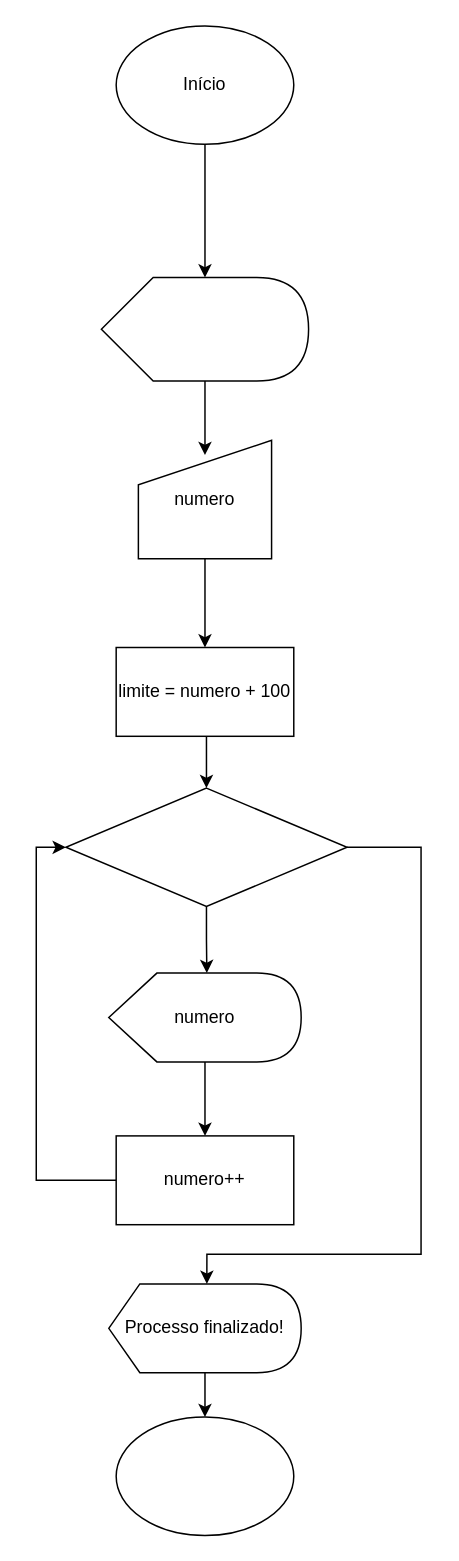
Image size: 459x1561. Some labels were removed from this diagram. Each missing label, with the centre of its shape:
"Digite um número" belongs at point (204, 328).
"fim" belongs at point (204, 1476).
"numero <= limite" belongs at point (205, 846).
